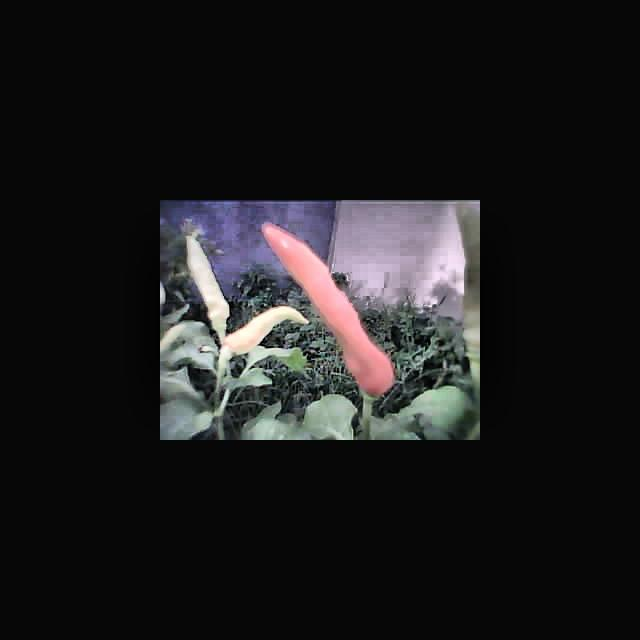Cabai: (315, 221, 397, 369)
